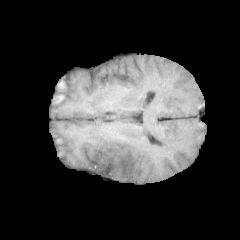glioma: (91, 139, 140, 179)
